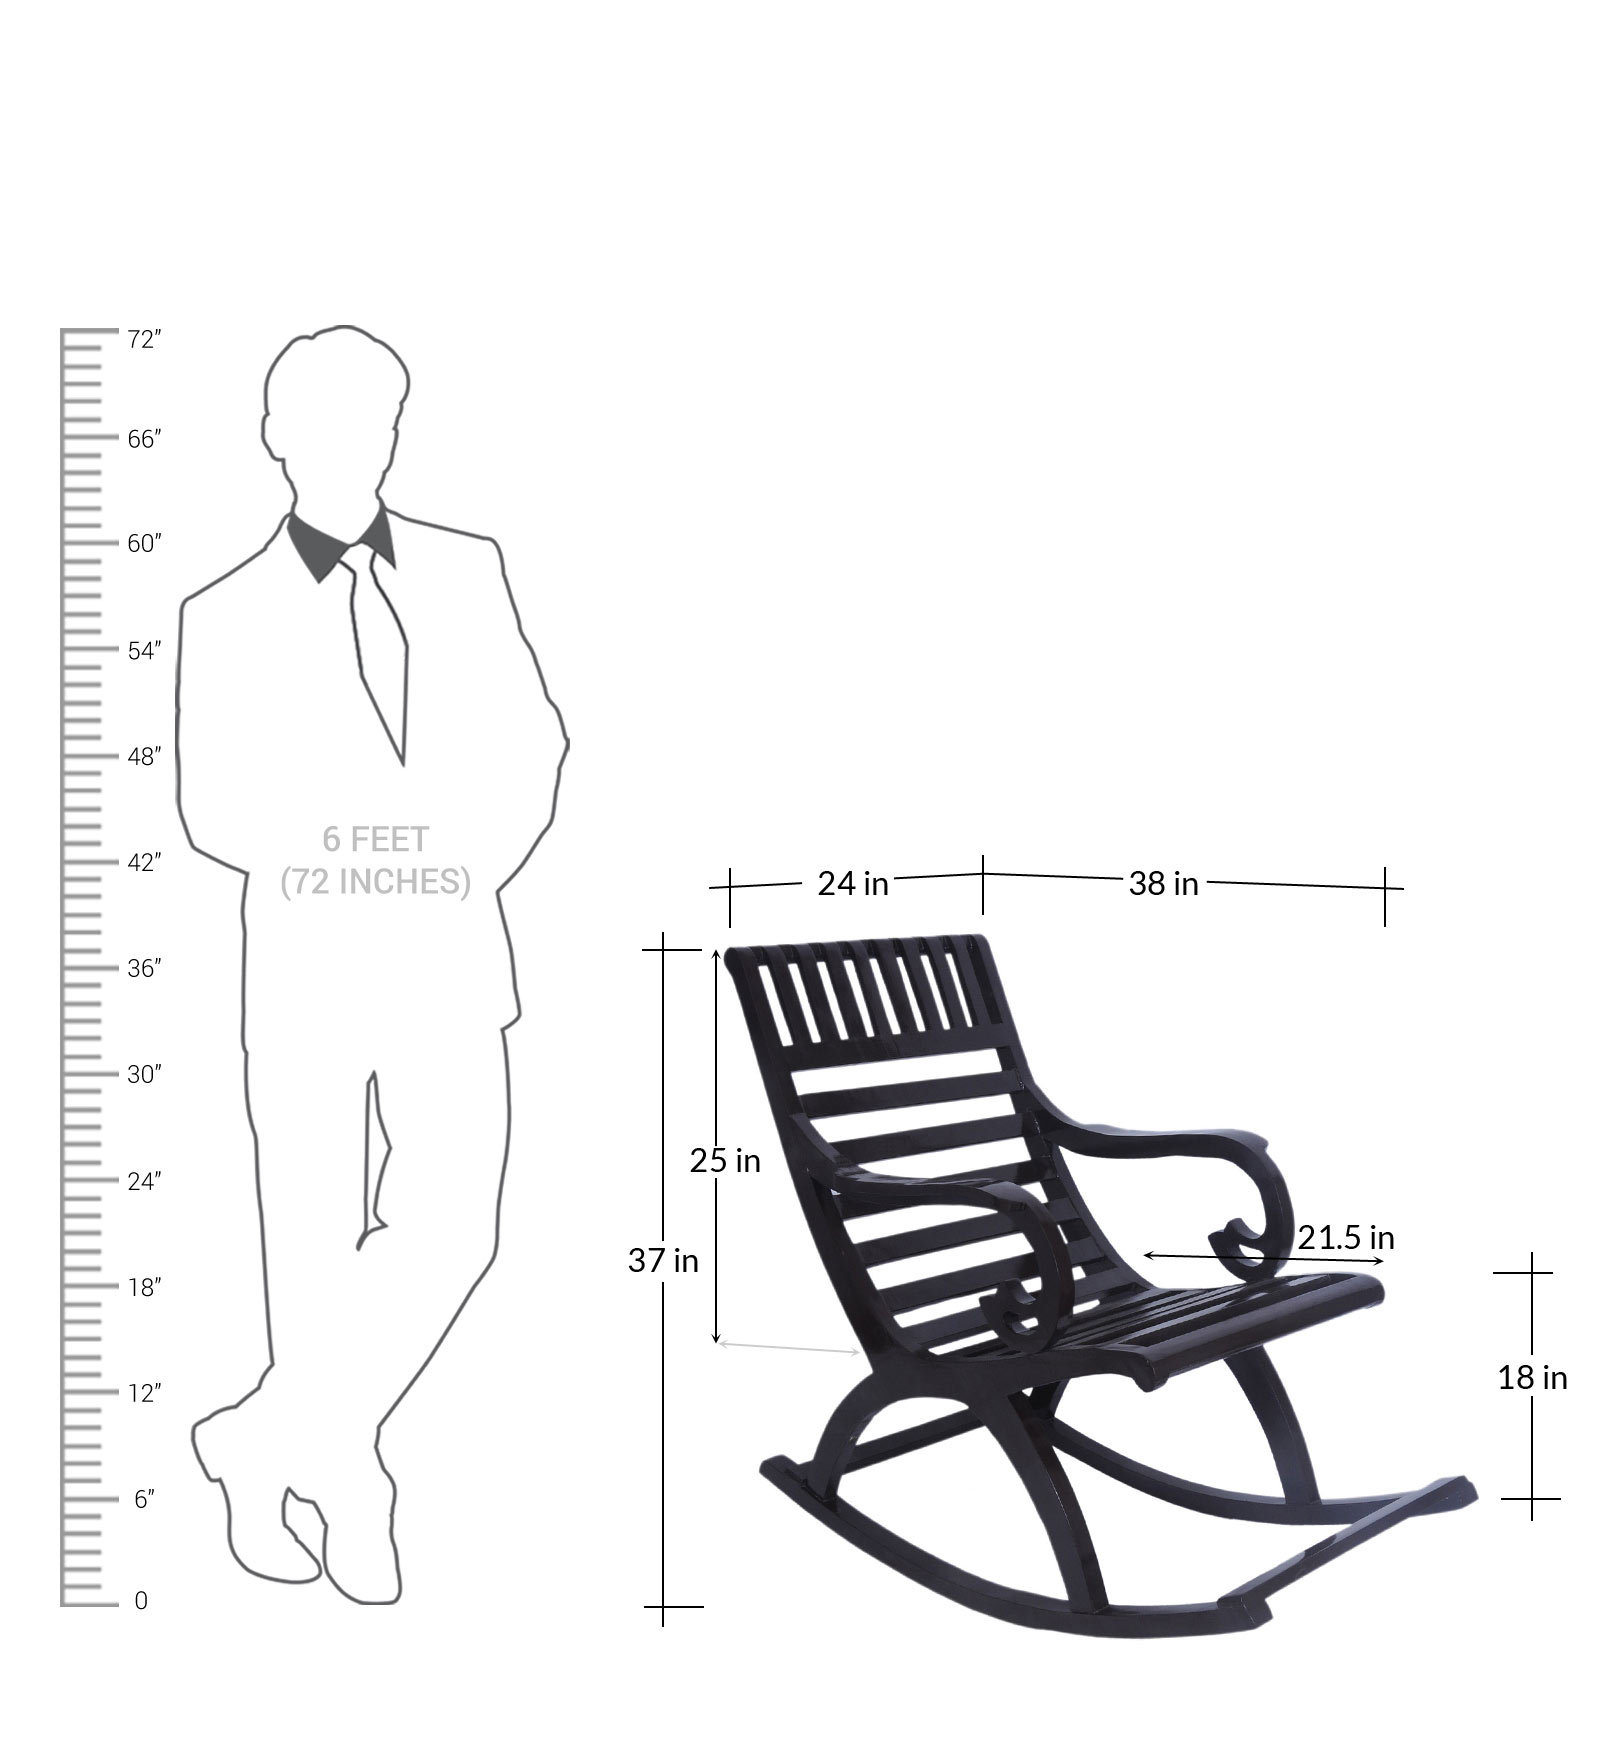Teak Wood Rocking Chair in Walnut Finish by Furniease: (708, 928, 1484, 1660)
